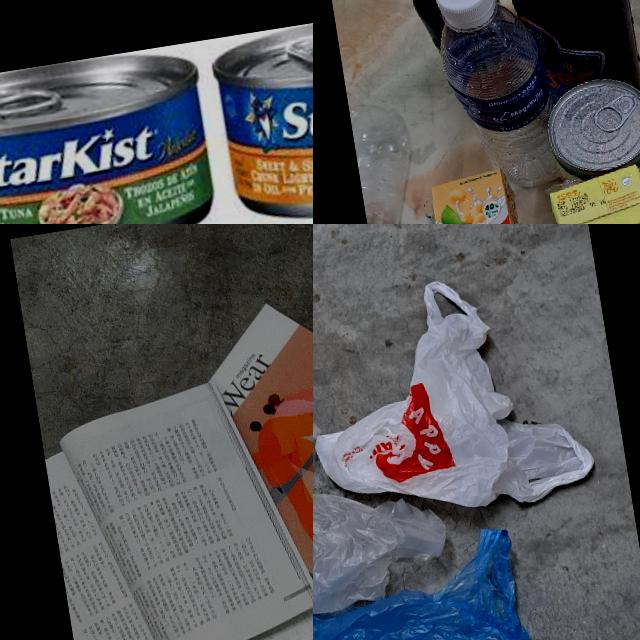aba de lata: (0, 77, 65, 126), (285, 23, 313, 73)
caixinha: (425, 169, 533, 224), (552, 171, 640, 224)
garrafa de vidro: (481, 0, 640, 117), (382, 0, 504, 72)
garrafa plástica: (435, 0, 564, 197), (348, 94, 439, 224)
lata: (0, 41, 223, 224), (204, 0, 313, 224), (544, 75, 640, 224), (588, 88, 638, 134)
papel: (25, 281, 313, 640)
sacola plástica: (313, 259, 603, 539), (313, 383, 462, 640), (313, 525, 558, 640)
tampa plástica: (431, 0, 498, 29)
